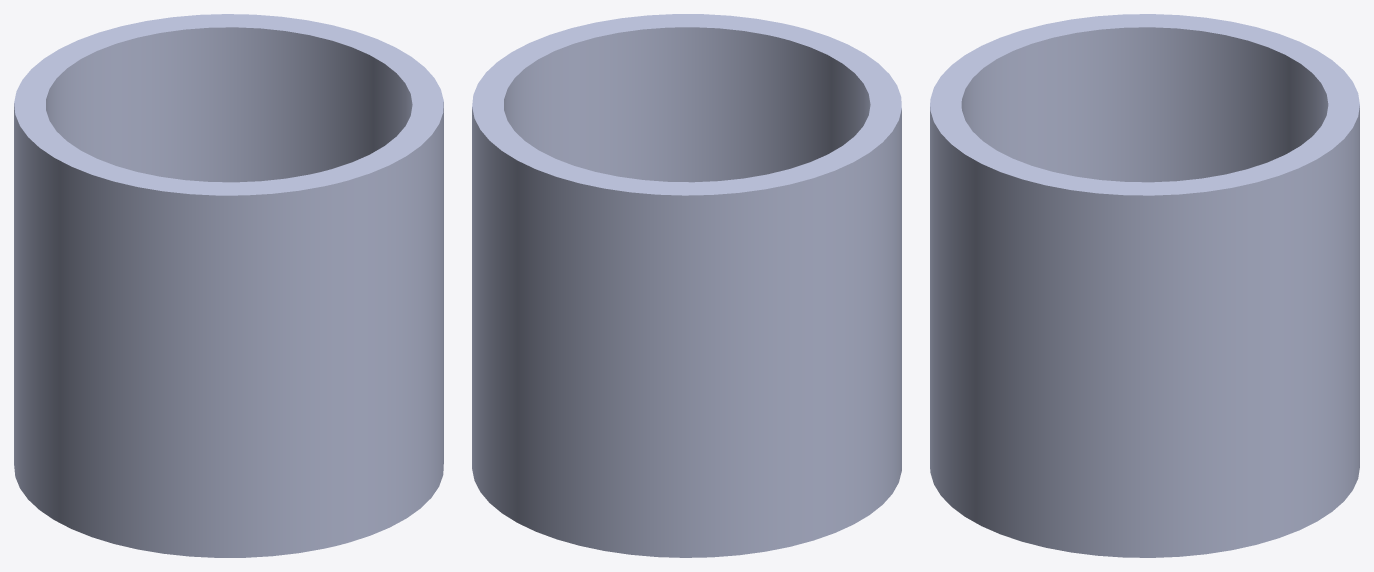
File: Cup holder sleeve extension.gltf
3 renders of one model, left to right at view 1: azimuth 30°, elevation 25°; view 2: azimuth 150°, elevation 25°; view 3: azimuth 270°, elevation 25°, orthographic.
Parts seen in each view (by area): view 1: Cup holder sleeve extension; view 2: Cup holder sleeve extension; view 3: Cup holder sleeve extension.
Boxes of the visible parts, left/top/right/bottom form: Cup holder sleeve extension: left=14, top=14, right=443, bottom=557; Cup holder sleeve extension: left=472, top=14, right=901, bottom=557; Cup holder sleeve extension: left=930, top=14, right=1359, bottom=557.
Bounding box in the file's own units: 0.0785 × 0.073 × 0.0785.
